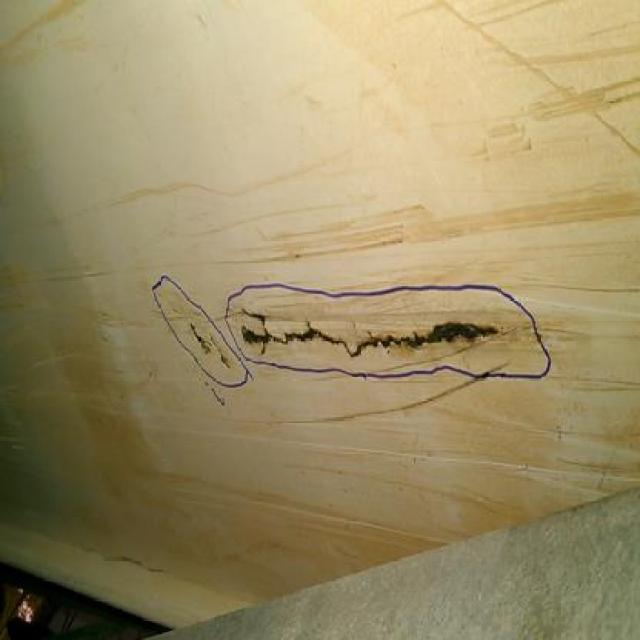crack: (239, 310, 502, 362), (187, 319, 235, 373)
